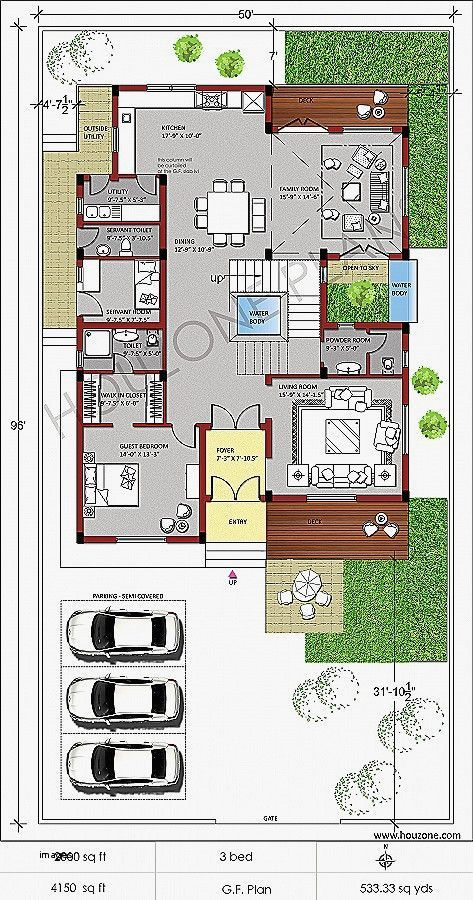door: (207, 471, 263, 496), (206, 397, 263, 420), (170, 429, 198, 453), (82, 295, 110, 319), (370, 333, 387, 354), (113, 350, 129, 370), (140, 179, 158, 196), (87, 182, 105, 199)
